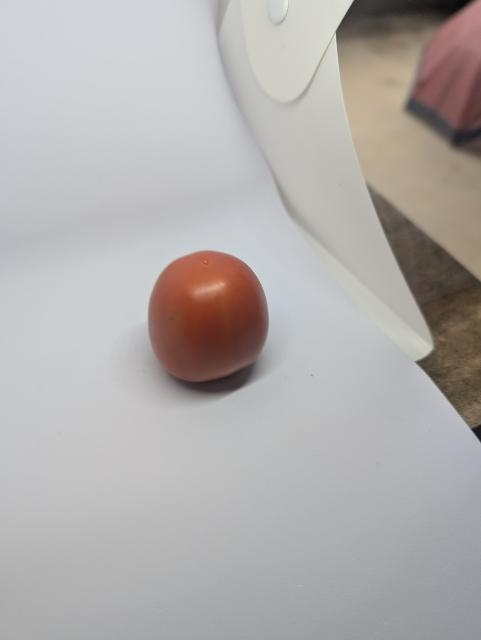red: (131, 237, 312, 417)
